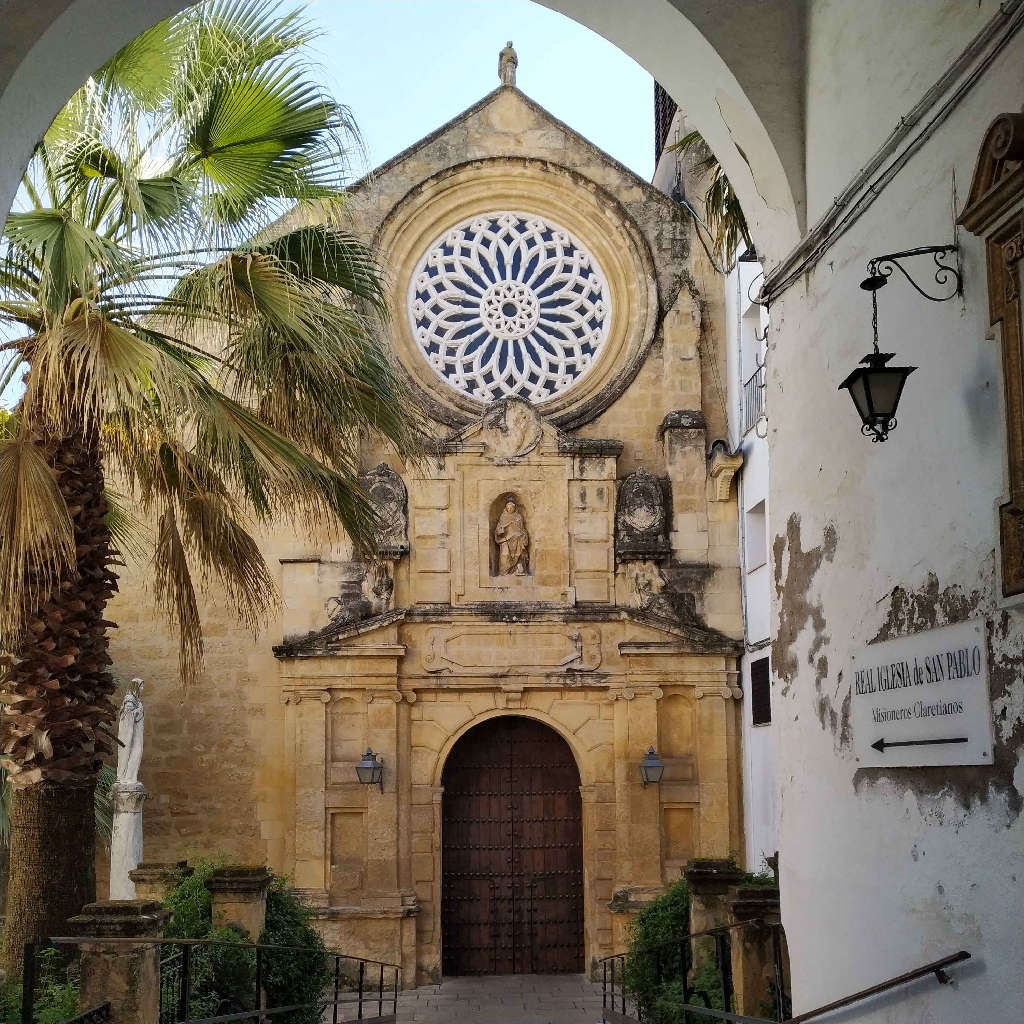arco-medio-punto: (426, 706, 592, 806)
fronton-partido: (272, 596, 739, 674)
